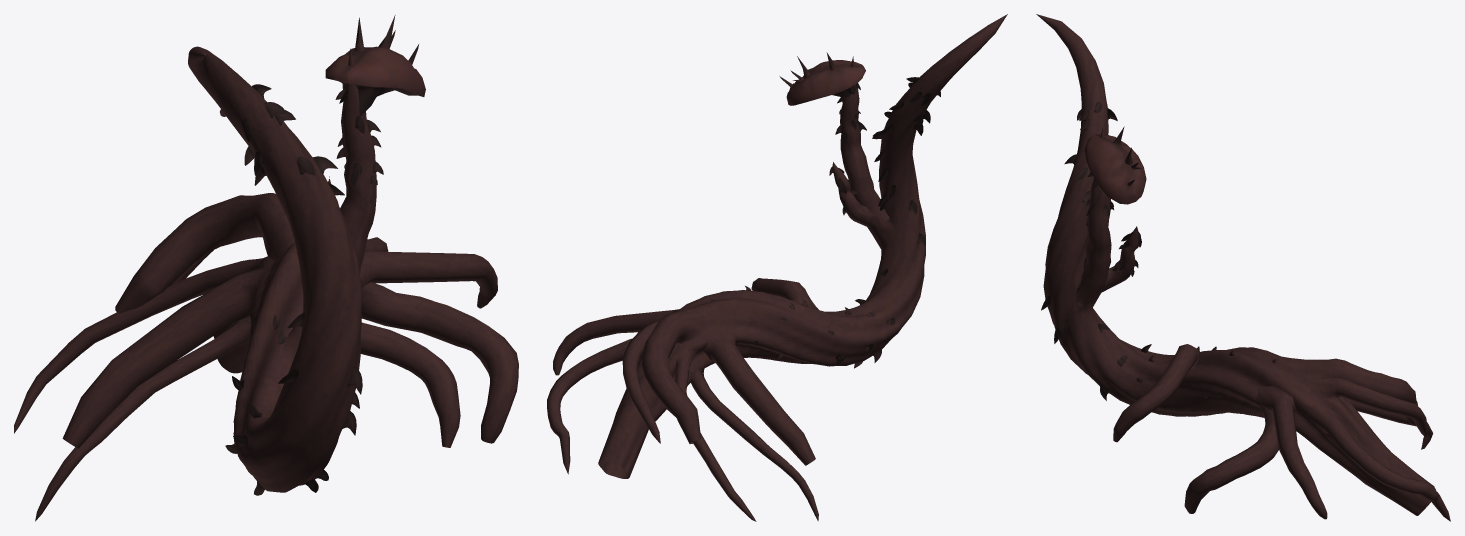
The picture shows the model from 3 angles, left to right: view 1: azimuth 30°, elevation 25°; view 2: azimuth 150°, elevation 25°; view 3: azimuth 270°, elevation 25°; orthographic projection. The views are drawn at different scales.
Parts seen in each view (by area): view 1: SM_Spiked_Plant_06_LOD0; view 2: SM_Spiked_Plant_06_LOD0; view 3: SM_Spiked_Plant_06_LOD0.
Part boxes in pixels (x1=…): SM_Spiked_Plant_06_LOD0: x1=14, y1=15, x2=518, y2=521; SM_Spiked_Plant_06_LOD0: x1=547, y1=14, x2=1007, y2=521; SM_Spiked_Plant_06_LOD0: x1=1036, y1=14, x2=1450, y2=521.
Bounding box in the file's own units: 1.83 × 2.26 × 2.
Materials: 1 (1 with a texture image).
